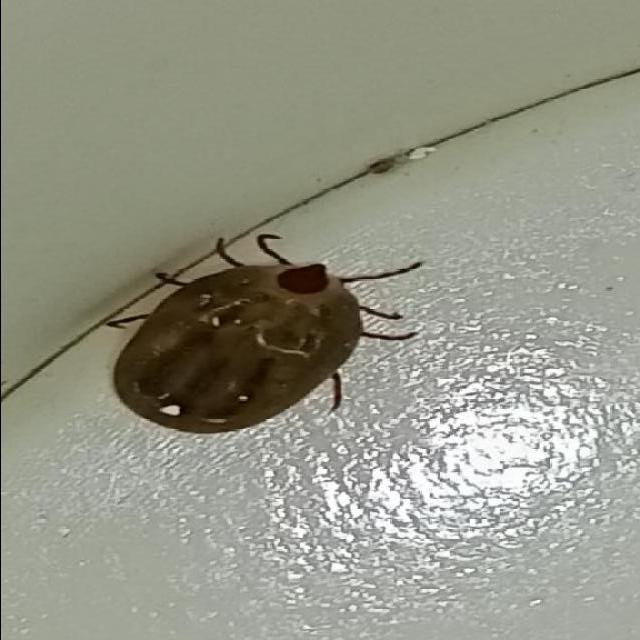Rhipicephalus Sanguineus-F-Fed: (103, 243, 428, 434)
